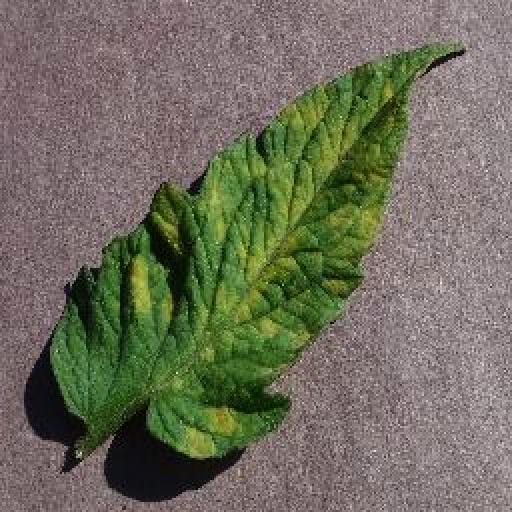disease_tomato: (52, 39, 454, 461)
